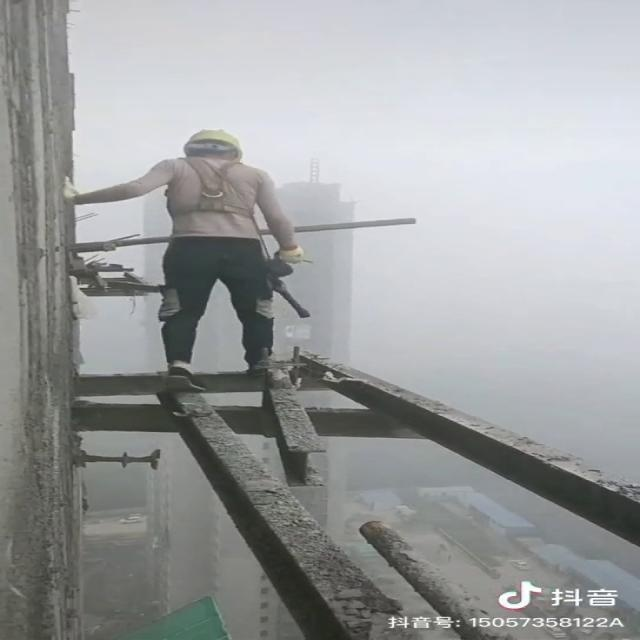Arnes_seguridad: (154, 155, 273, 230)
